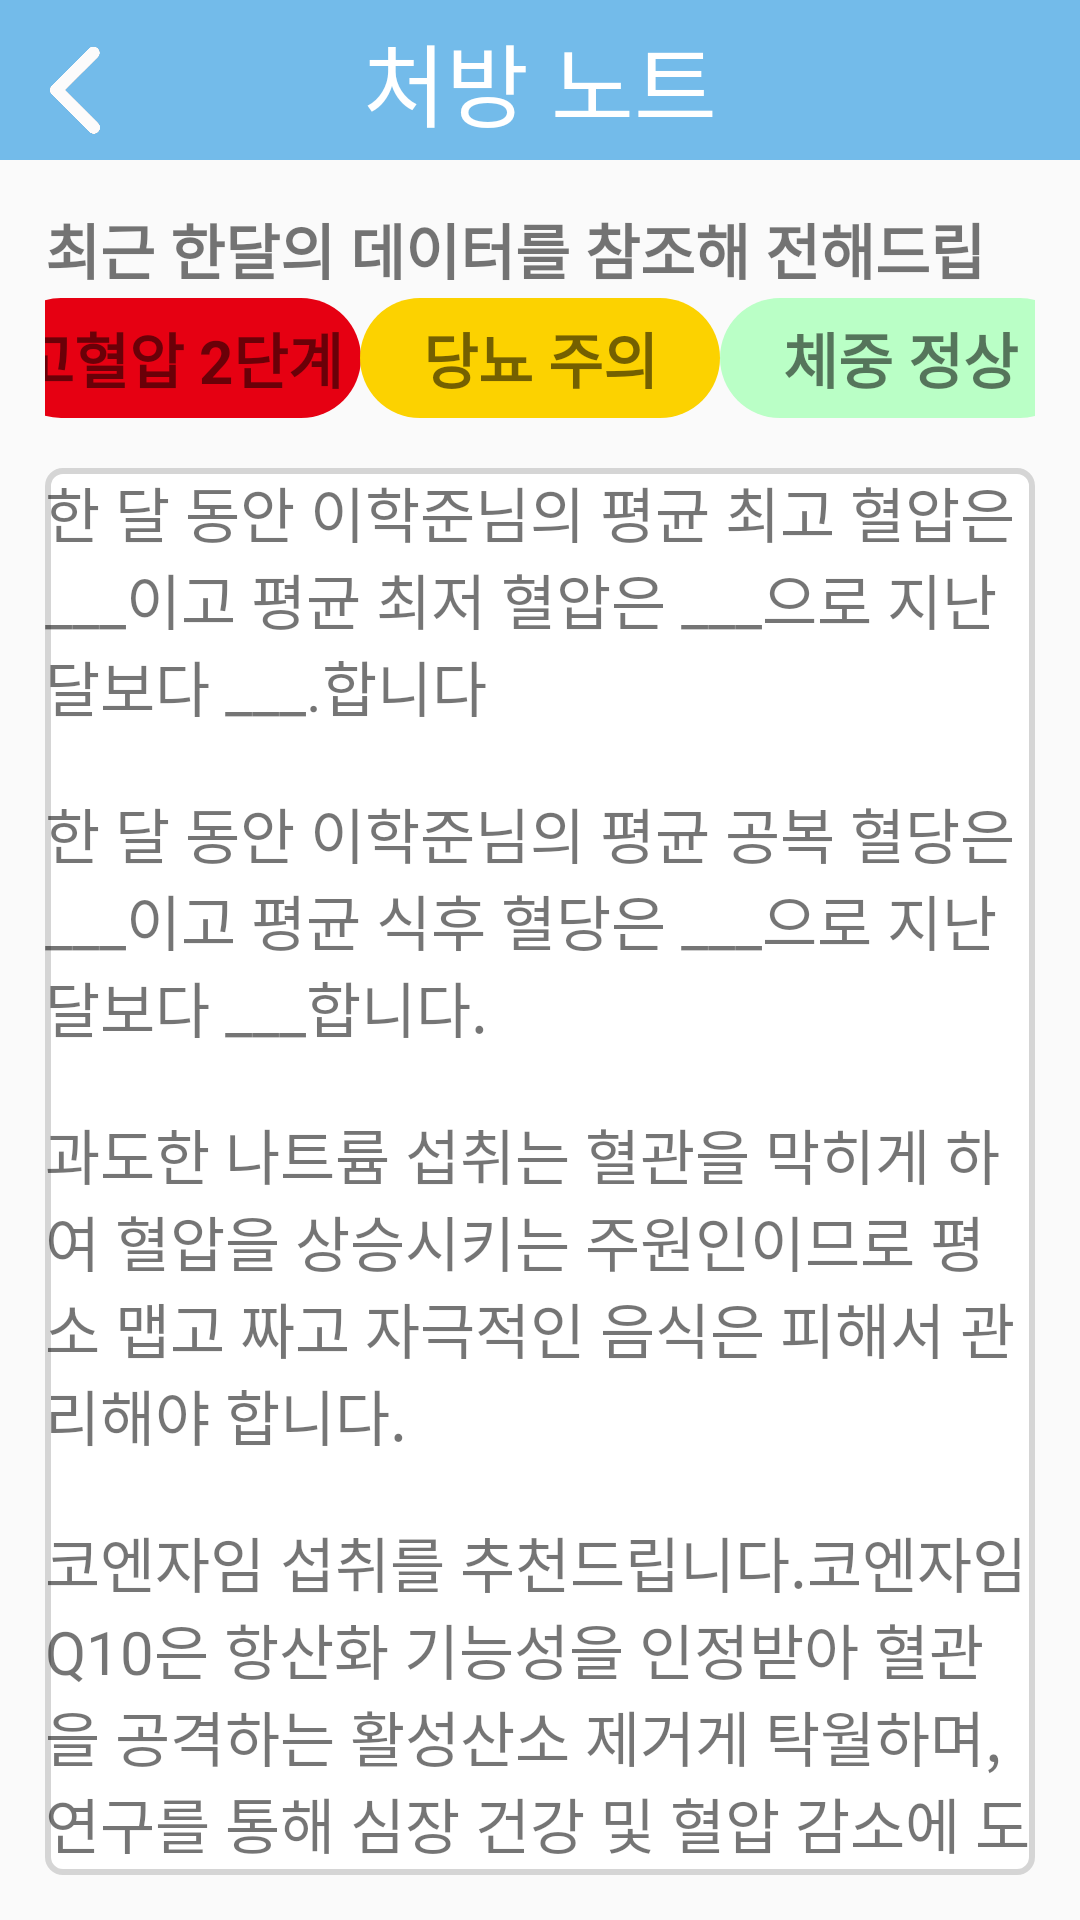

Named icons in this screenshot (1080 x 1920) and their centers, (x=x, y=y):
previous: (x=75, y=90)
